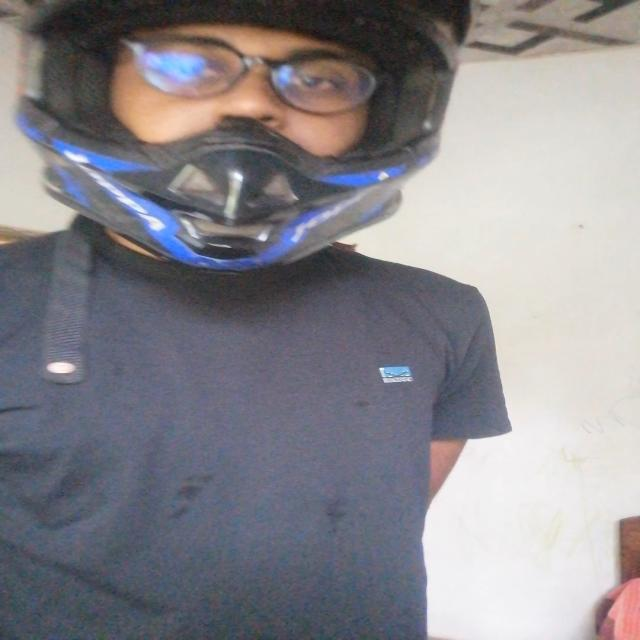Helmet_Wearer: (16, 0, 506, 279)
